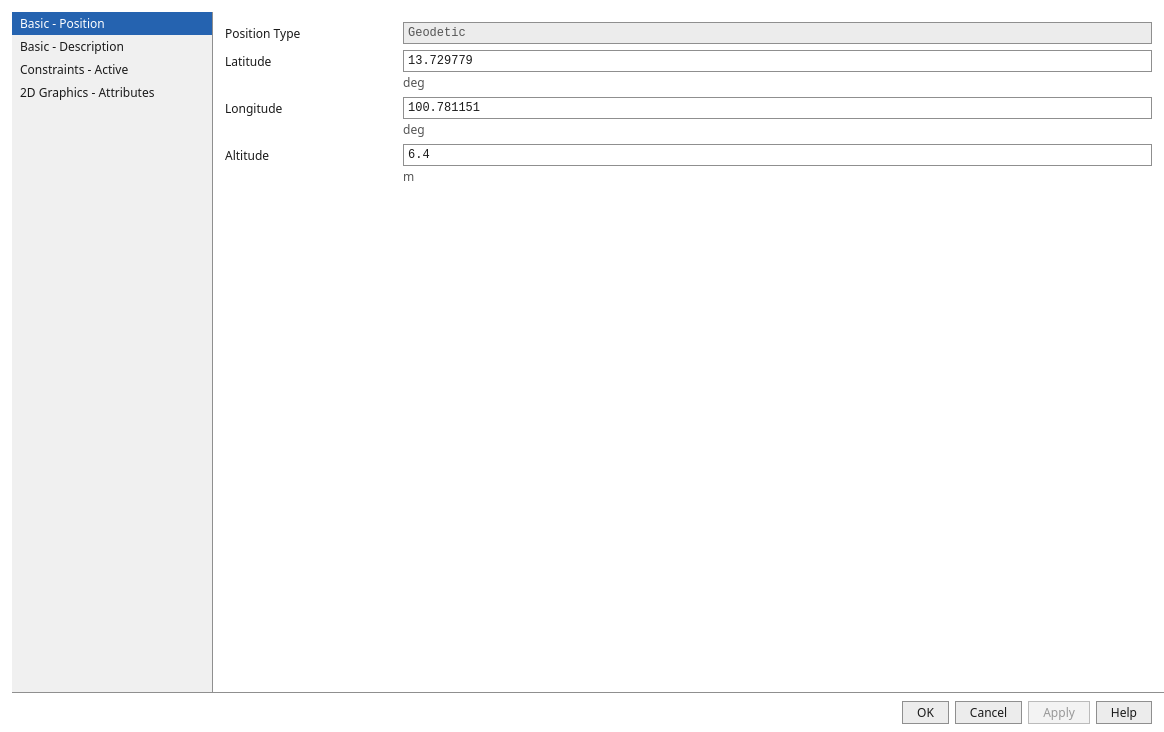
Test case: Apply on an object › after Apply the form shows what the server now holds and is clean again
Click the tab "Constraints - Active". click: click(112, 70)
box: [12, 58, 212, 81]
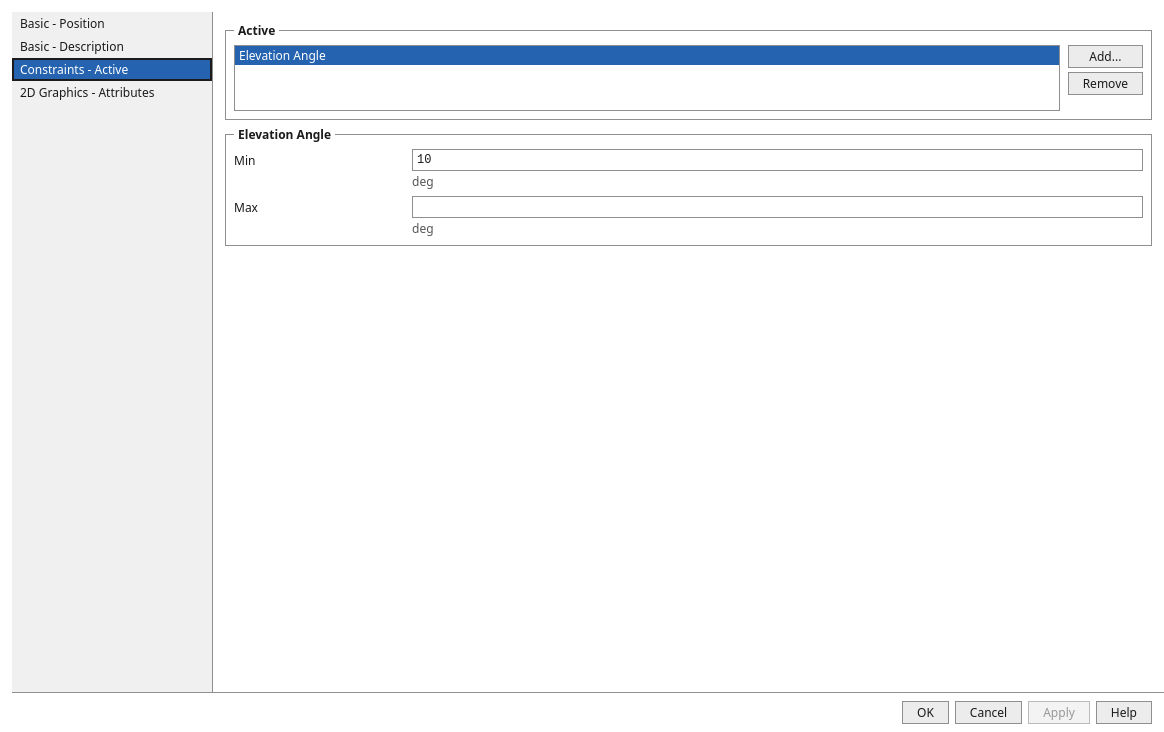
Replace the text in the field labelled "Min" with "15". click: (778, 160)
box: [412, 149, 1143, 171]
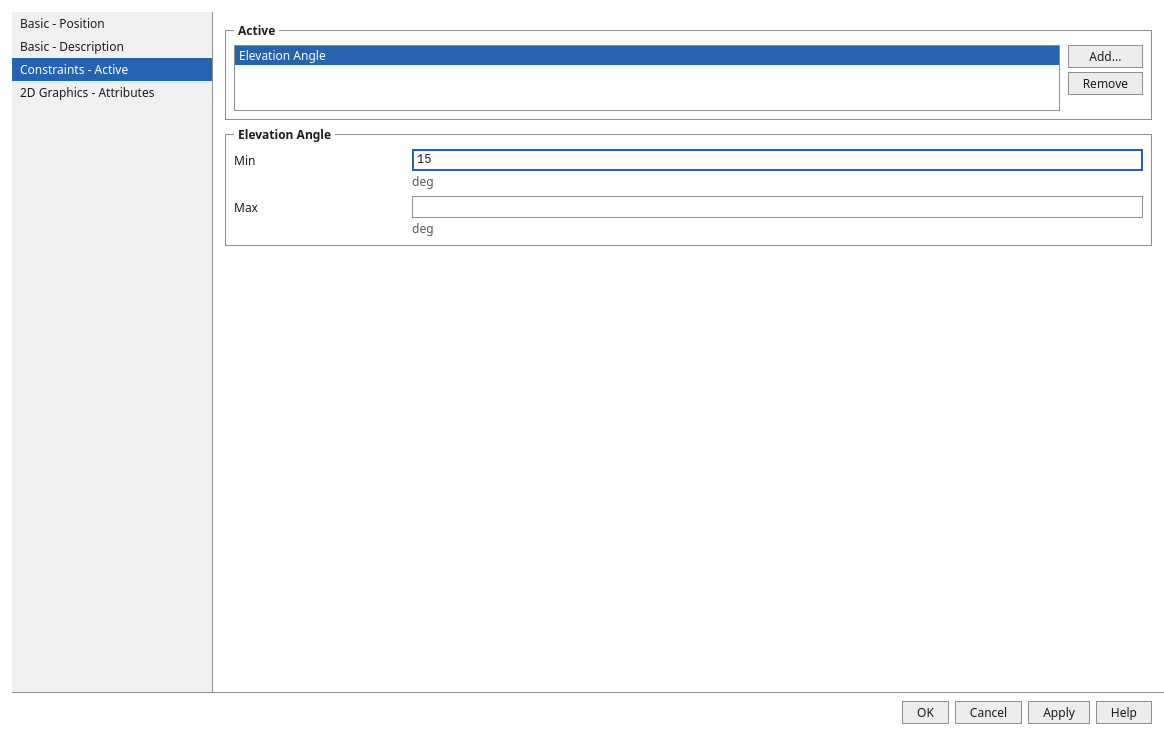
Click the button "Apply". click: click(1059, 712)
box: [1028, 701, 1090, 724]
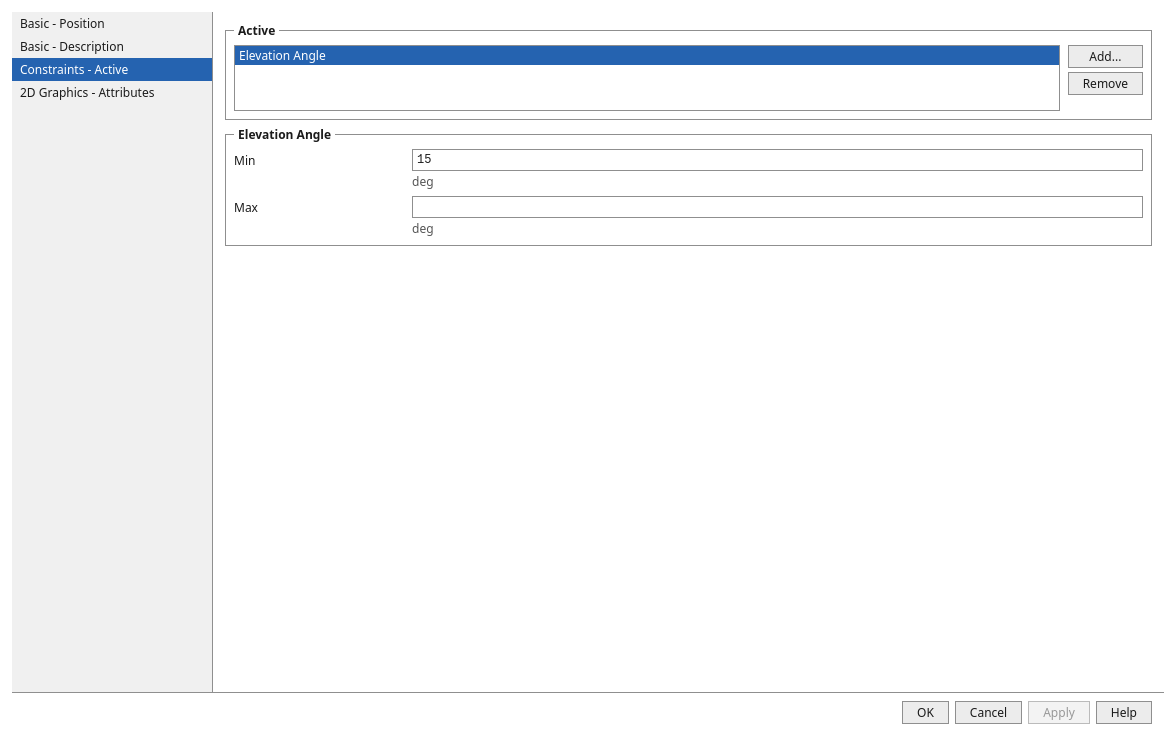
Expected: the panel is shown, [225, 22, 1152, 246]
Expected: the button "Apply" is disabled, [1028, 701, 1090, 724]
